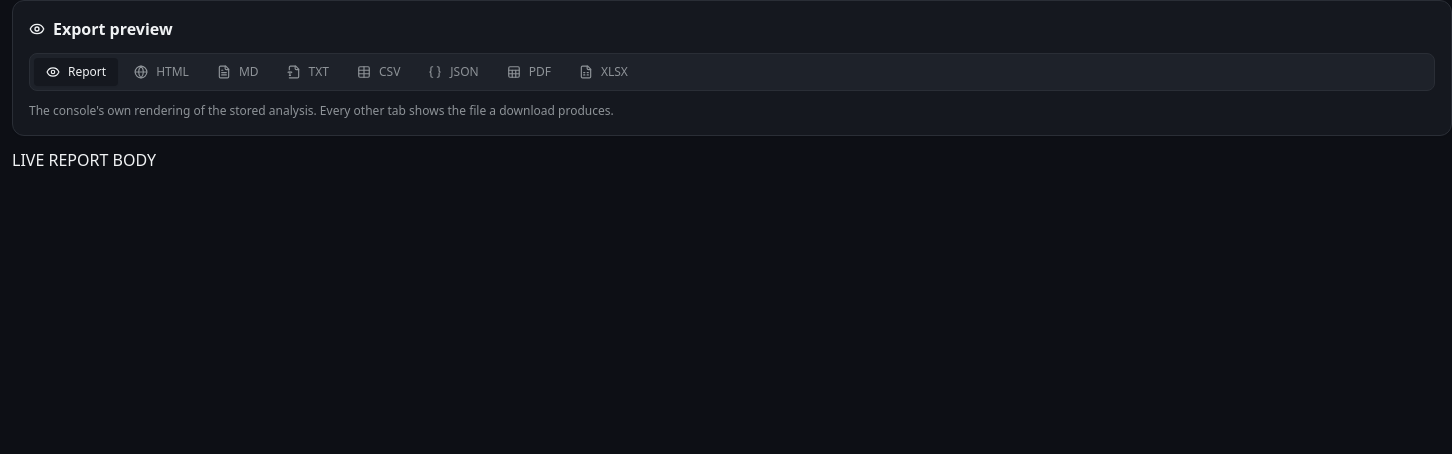
Test: ReportPreview › renders the csv export as one table per section
The image size is (1452, 454).
Click the tab "CSV". click: click(379, 72)
box: [345,58,412,86]
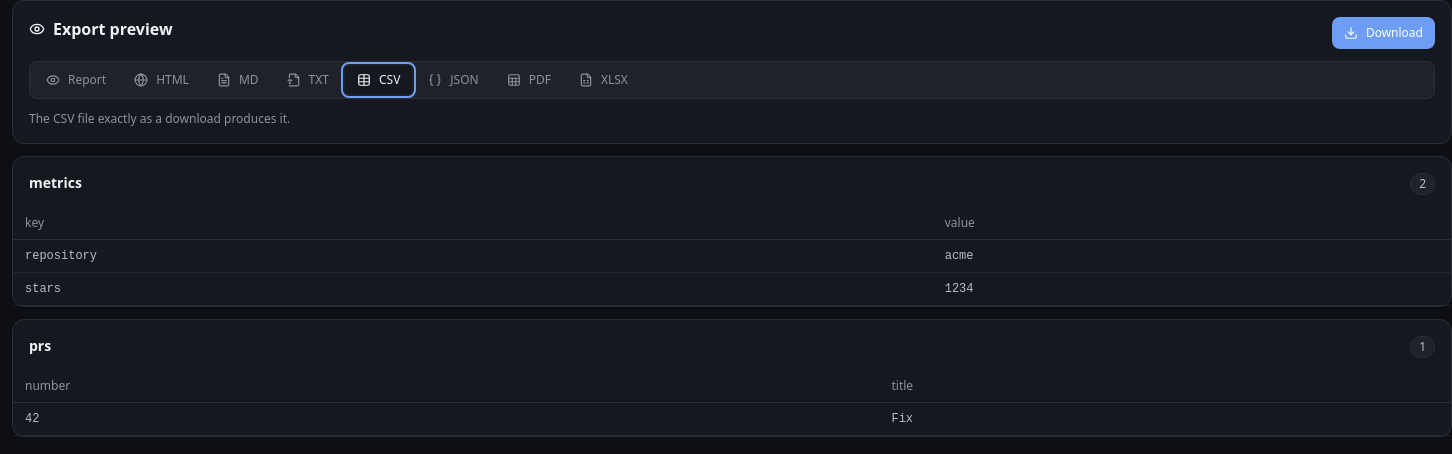
Check: the heading "metrics" is shown, box [29,173,82,193]
Check: the heading "prs" is shown, box [29,336,51,356]
Check: the text "acme" is shown, box [933,240,1451,272]
